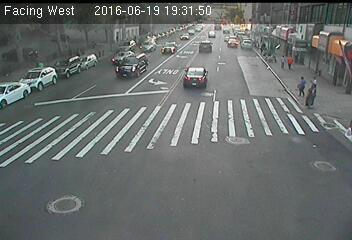neg: (265, 40, 277, 56), (62, 35, 74, 51), (242, 36, 251, 49), (298, 24, 306, 35), (227, 36, 235, 47), (91, 31, 99, 41)
pos: (291, 71, 311, 98), (302, 86, 319, 109), (276, 53, 289, 71), (311, 73, 321, 87), (286, 52, 296, 66)
